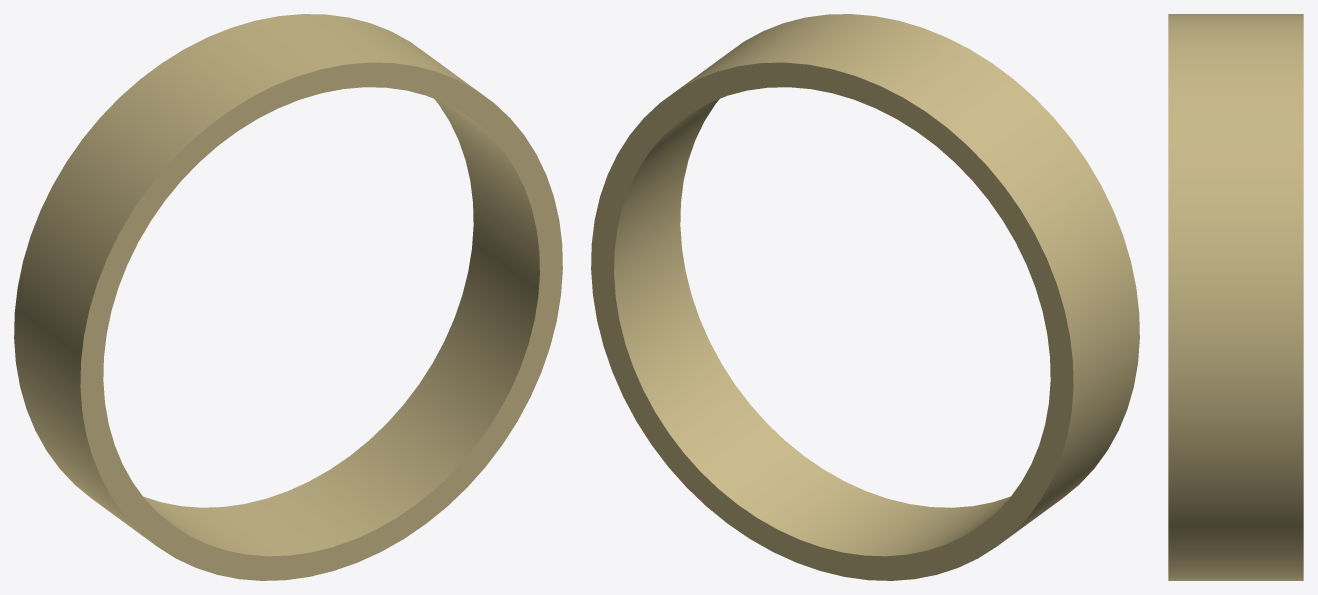
Rendered from step_14.glb.
3 views of the same model, side by side, from view 1: azimuth 30°, elevation 25°; view 2: azimuth 150°, elevation 25°; view 3: azimuth 270°, elevation 25° (orthographic).
Parts seen in each view (by area): view 1: part__bearing cage; view 2: part__bearing cage; view 3: part__bearing cage.
Part boxes in pixels (bbox=[...]): part__bearing cage: bbox=[14, 14, 562, 580]; part__bearing cage: bbox=[591, 14, 1139, 580]; part__bearing cage: bbox=[1168, 14, 1303, 580].
Bounding box in the file's own units: 62.98 × 62.96 × 15.
